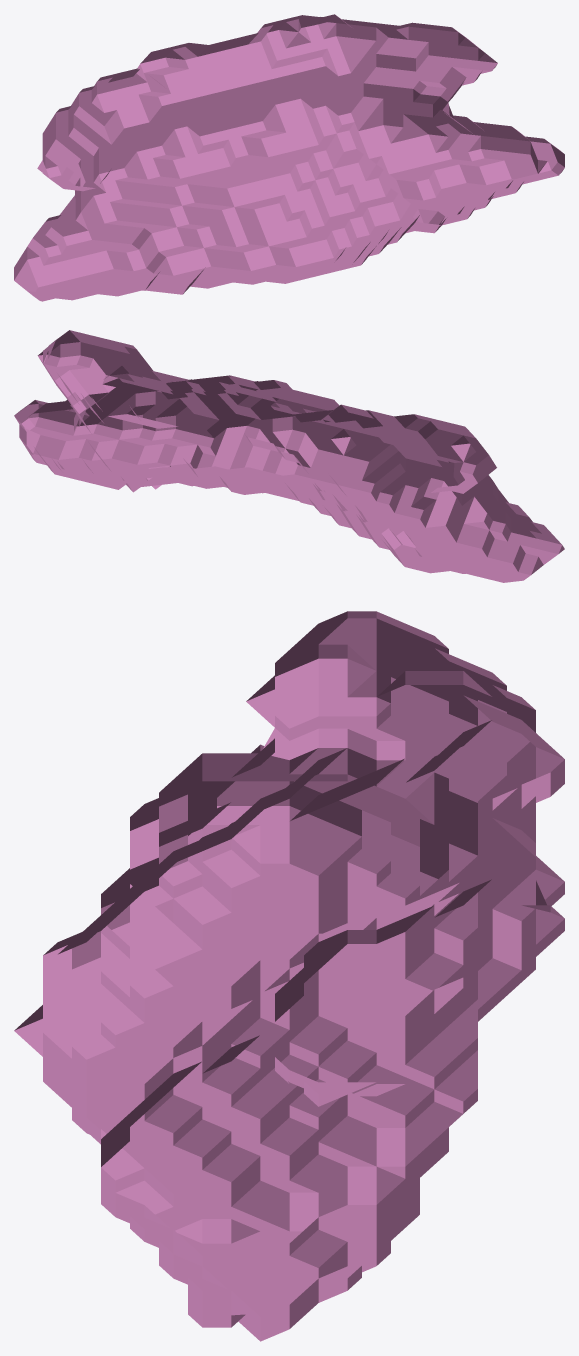
Rendered from region_0011_Cans__ansulate_commissure_.glb.
The picture shows the model from 3 angles, top to bottom: view 1: azimuth 30°, elevation 25°; view 2: azimuth 150°, elevation 25°; view 3: azimuth 270°, elevation 25°; orthographic projection. The views are drawn at different scales.
Parts seen in each view (by area): view 1: world; view 2: world; view 3: world.
Part boxes in pixels (box(x1,y1,x2,y2)): world: box(14, 14, 564, 301); world: box(14, 330, 564, 582); world: box(14, 611, 564, 1341).
Bounding box in the file's own units: 0.336 × 0.104 × 0.152.
